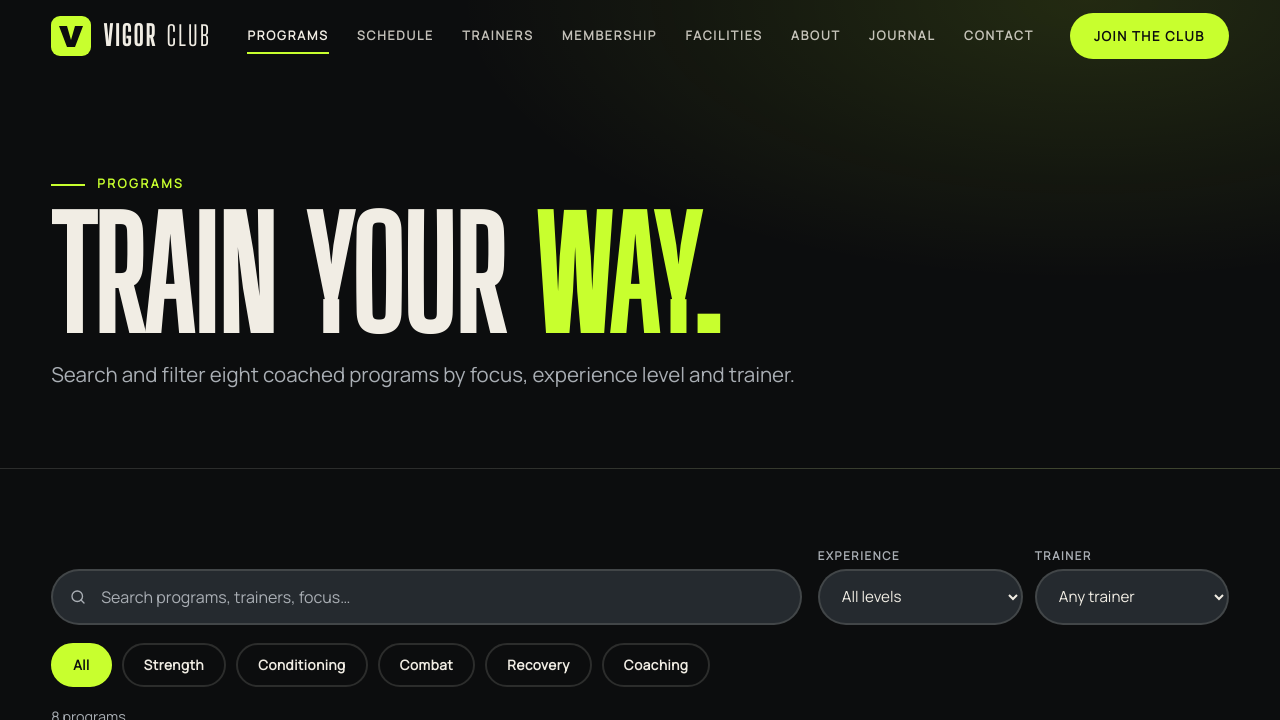
Test: programs › searches, filters and shows empty state
Click the button "Combat".
click(426, 665)  # box top-left (378, 643), bottom-right (475, 687)
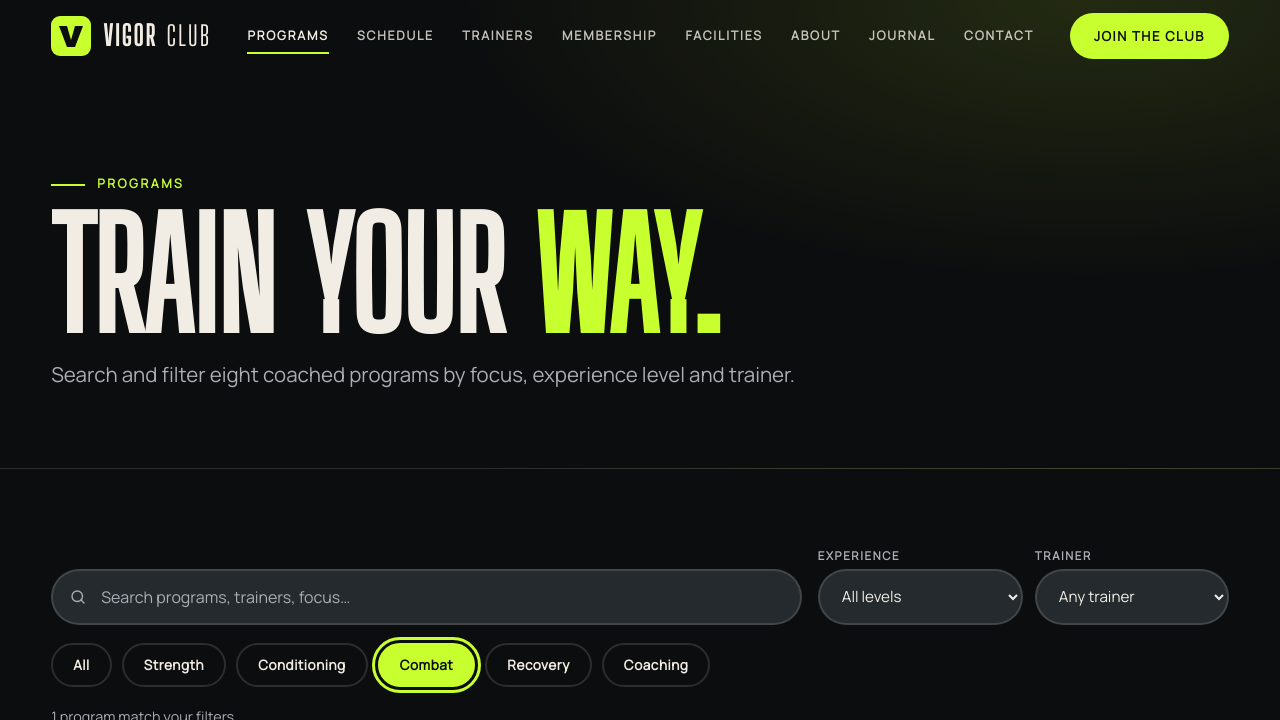
Click the button "All".
click(82, 665)  # box top-left (51, 643), bottom-right (112, 687)
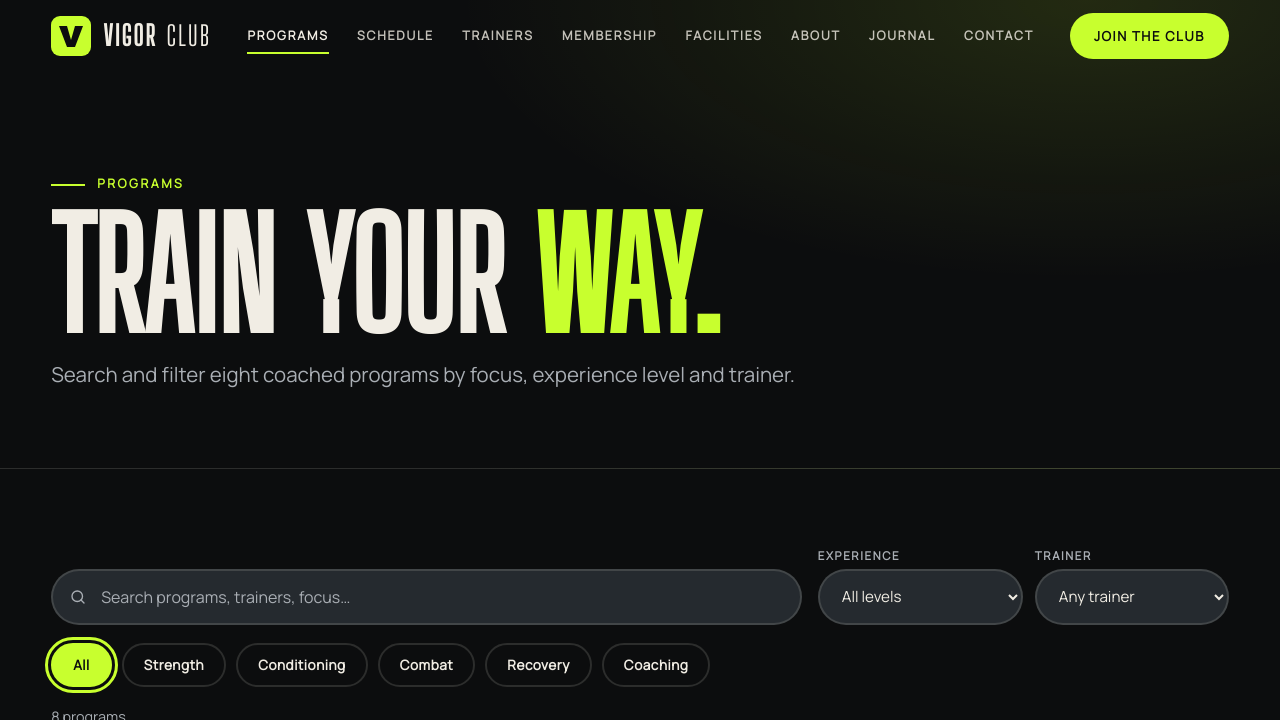
Type "mobility" into the search field labelled "Search programs, trainers, focus…".
click(426, 597); type("mobility")  # box top-left (51, 569), bottom-right (802, 625)
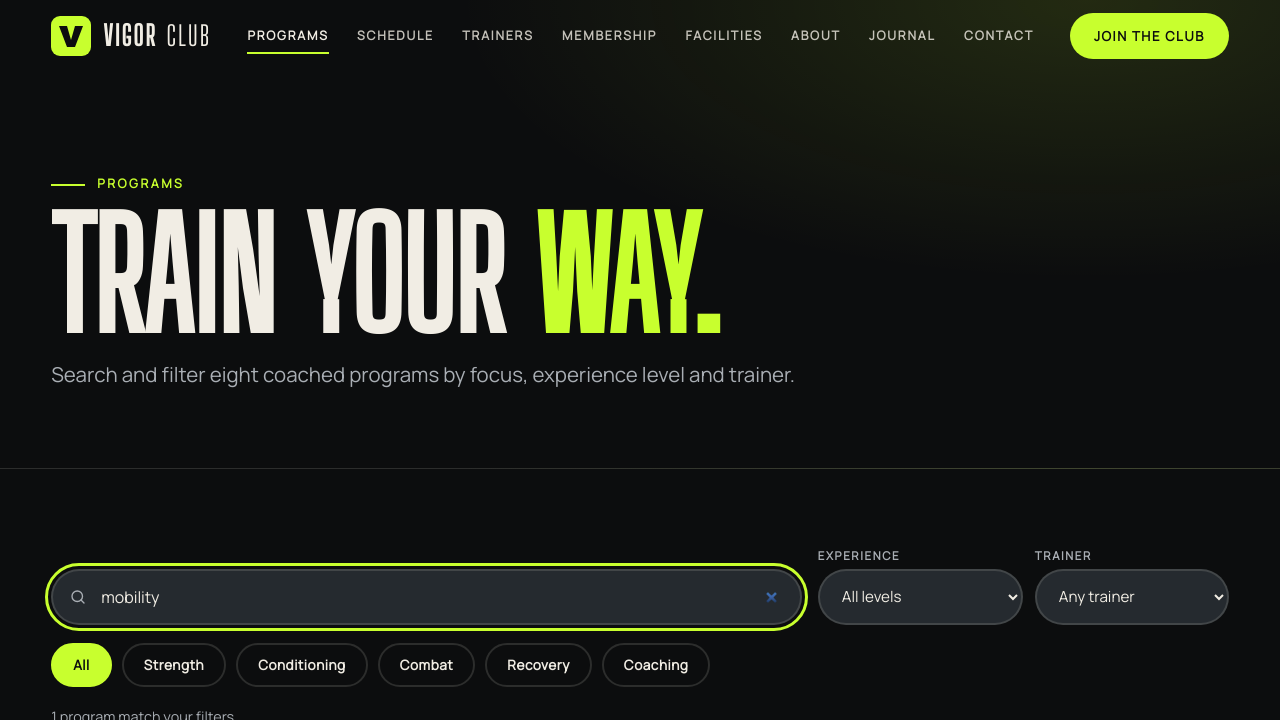
Replace the text in the search field named "Search programs" with "zzzzqq" at (426, 597), box top-left (51, 569), bottom-right (802, 625)
(page scrolled)
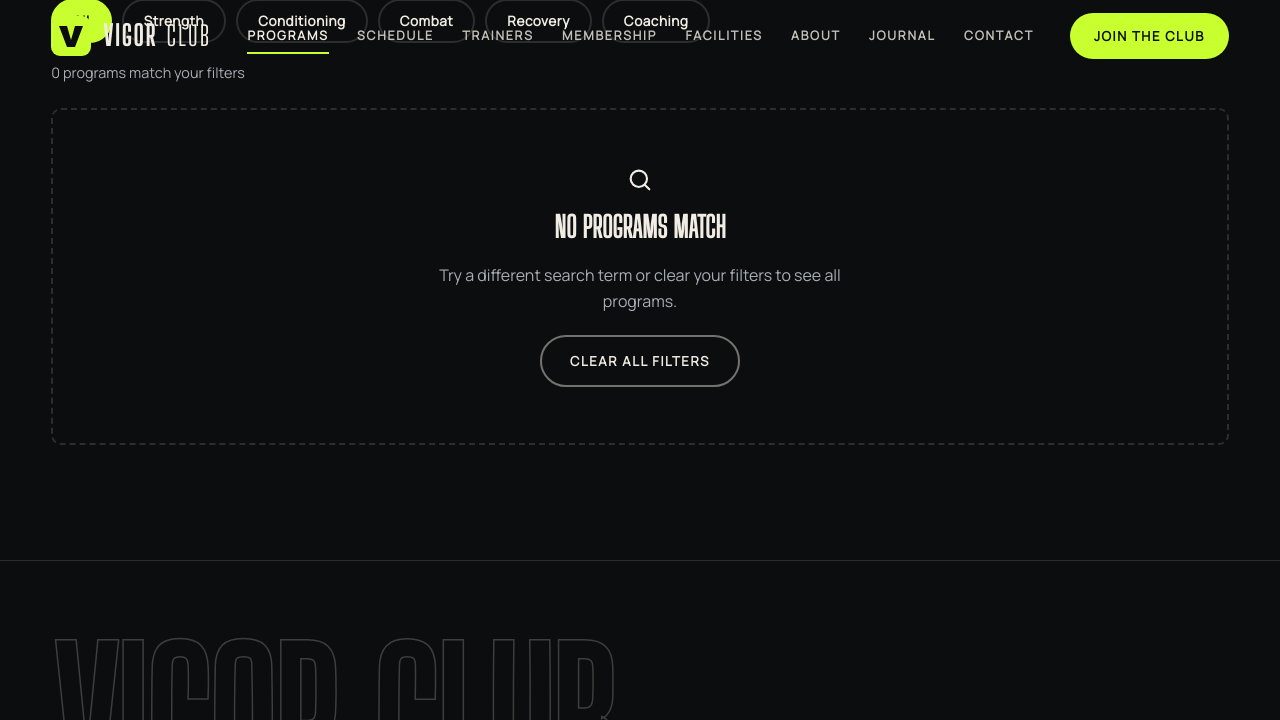
Expected: the heading "No programs match" is shown, top-left (554, 204), bottom-right (726, 252)
Click the button "Clear all filters".
click(640, 361)  # box top-left (540, 335), bottom-right (740, 387)
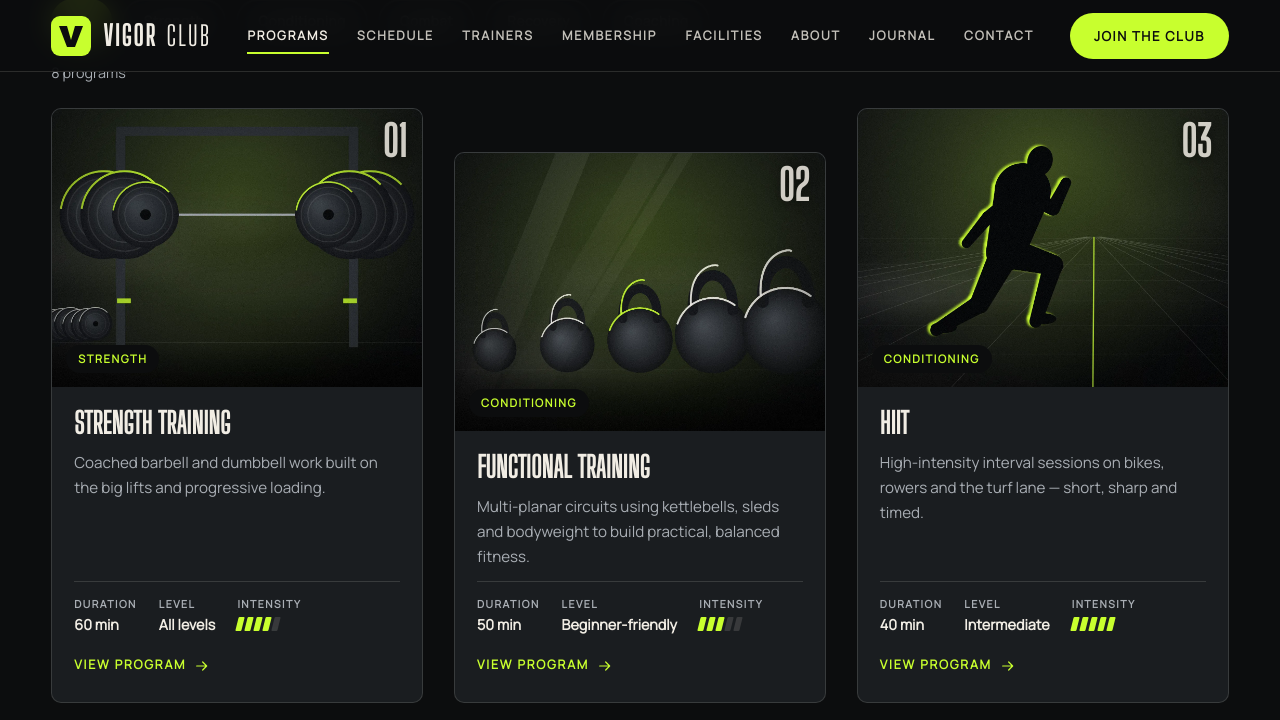
Expected: the text "8 programs" is shown, top-left (51, 63), bottom-right (126, 82)
